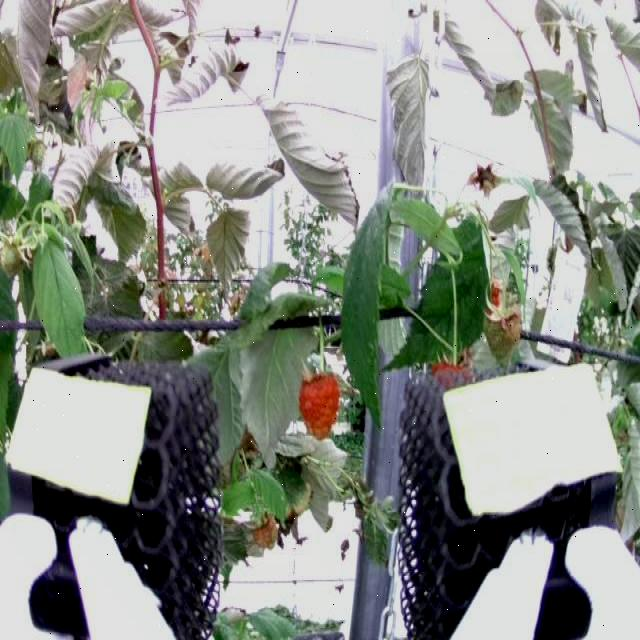Riped berries: (292, 363, 348, 441)
